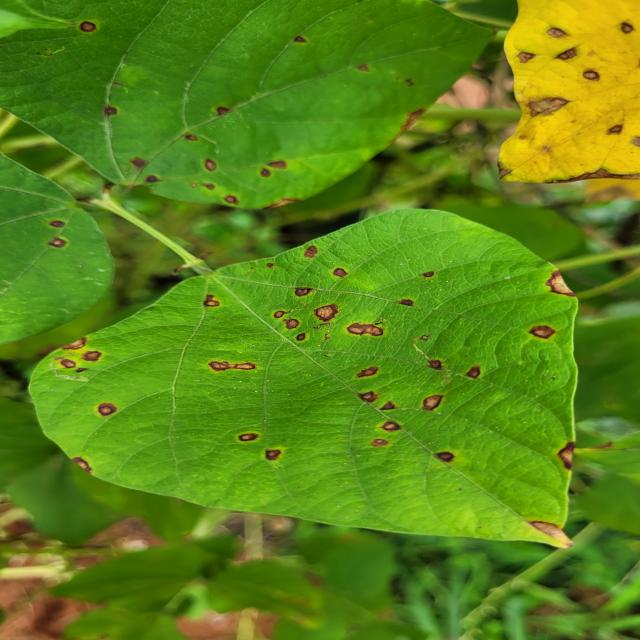Dolicos bean_cercospora leaf spot: (29, 205, 585, 550), (0, 0, 510, 210), (483, 0, 640, 194)
